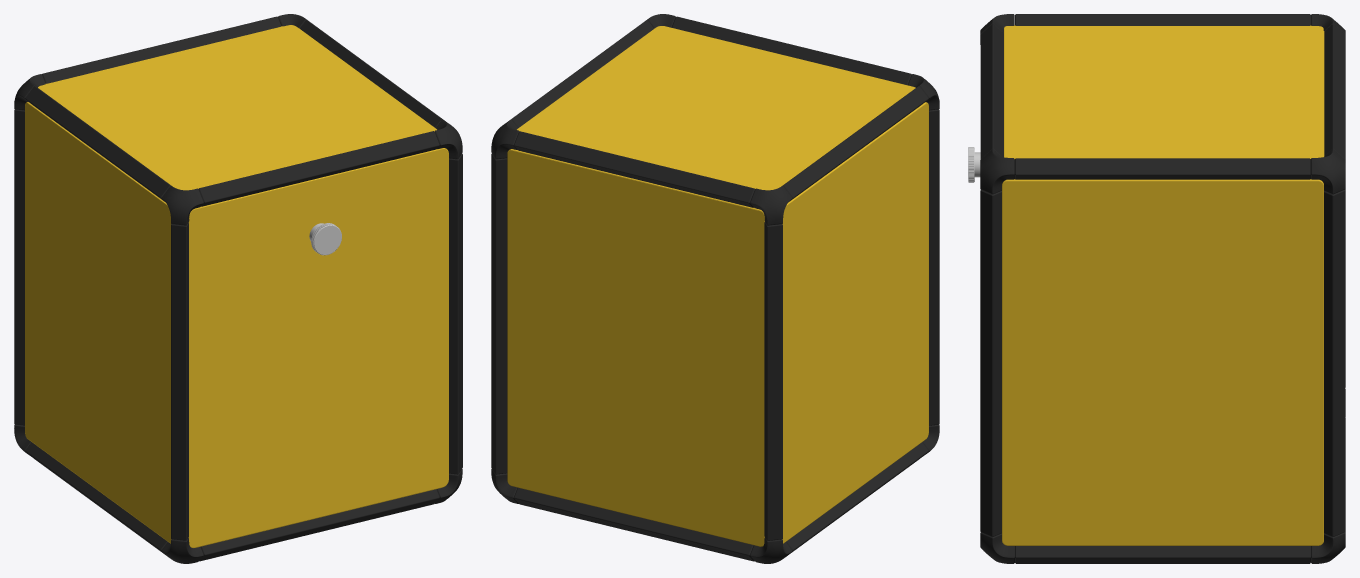
3 views of the same model, side by side, from view 1: azimuth 30°, elevation 25°; view 2: azimuth 150°, elevation 25°; view 3: azimuth 270°, elevation 25° (orthographic). The views are drawn at different scales.
Parts seen in each view (by area): view 1: 329x329x420; view 2: 329x329x420; view 3: 329x329x420.
Part boxes in pixels (box(x1,y1,x2,y2)): 329x329x420: box(14, 14, 462, 563); 329x329x420: box(491, 14, 939, 563); 329x329x420: box(968, 14, 1345, 563).
Size of the model in its own units: 0.4067 by 0.4976 by 0.4196.
